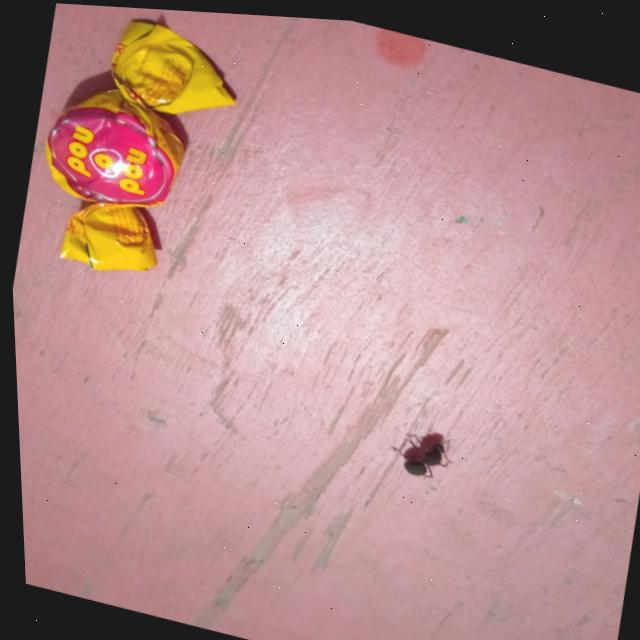Alive-Female-Dealate: (381, 420, 454, 482)
